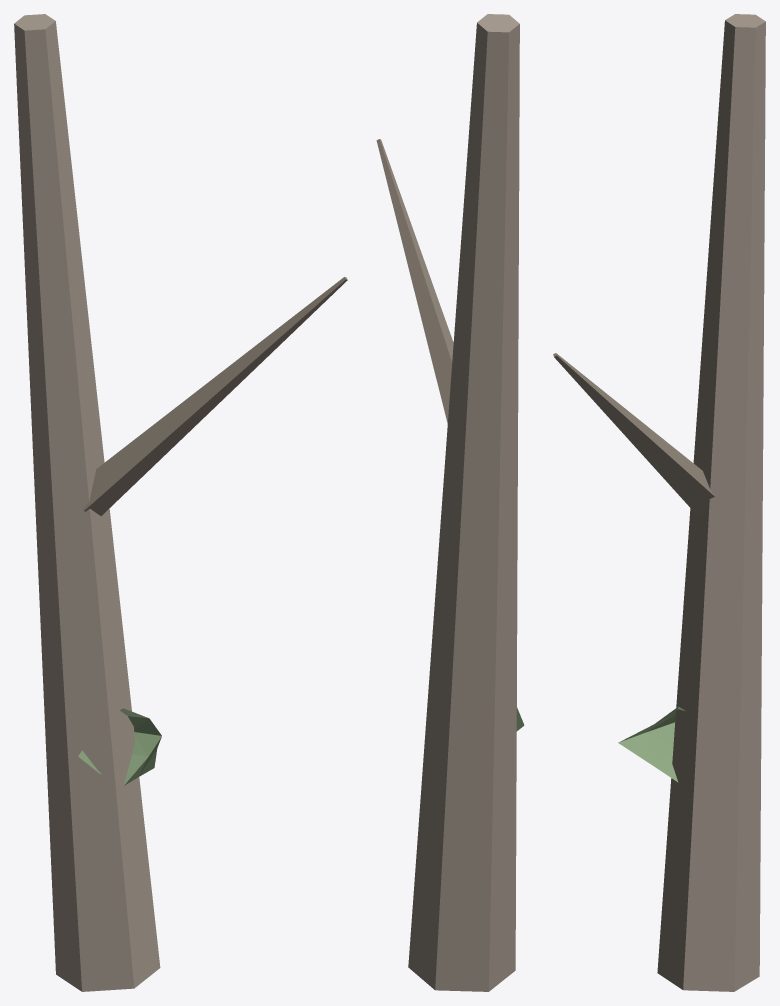
File: snag_v12.glb
3 views of the same model, side by side, from view 1: azimuth 30°, elevation 25°; view 2: azimuth 150°, elevation 25°; view 3: azimuth 270°, elevation 25° (orthographic). The views are drawn at different scales.
Parts seen in each view (by area): view 1: lod0; view 2: lod0; view 3: lod0.
Part boxes in pixels (x1,y1,x2,y2): lod0: (14, 14, 347, 991); lod0: (376, 14, 524, 991); lod0: (553, 14, 765, 991).
Size of what is drawn, in the model's own units: 0.866 by 3.42 by 0.7068.
